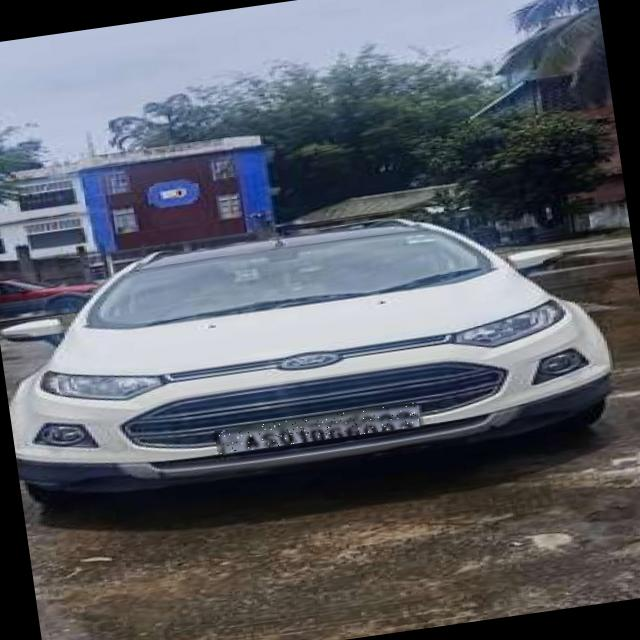Plate: (216, 404, 421, 456)
